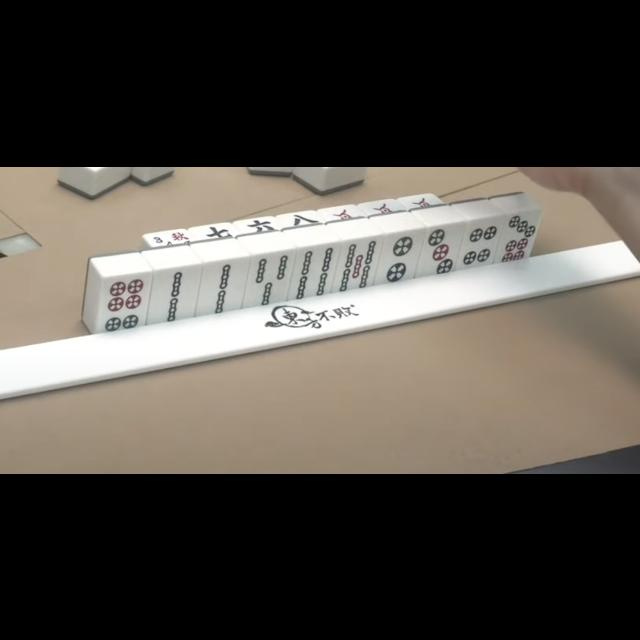b2: (150, 268, 198, 320), (200, 260, 244, 314)
b3: (247, 252, 291, 306)
b4: (293, 246, 337, 298)
b5: (338, 238, 378, 290)
d2: (379, 231, 418, 283)
d3: (419, 222, 459, 274)
d4: (460, 219, 502, 267)
d6: (96, 272, 146, 328)
d7: (496, 212, 540, 262)
s3: (152, 230, 192, 244)
